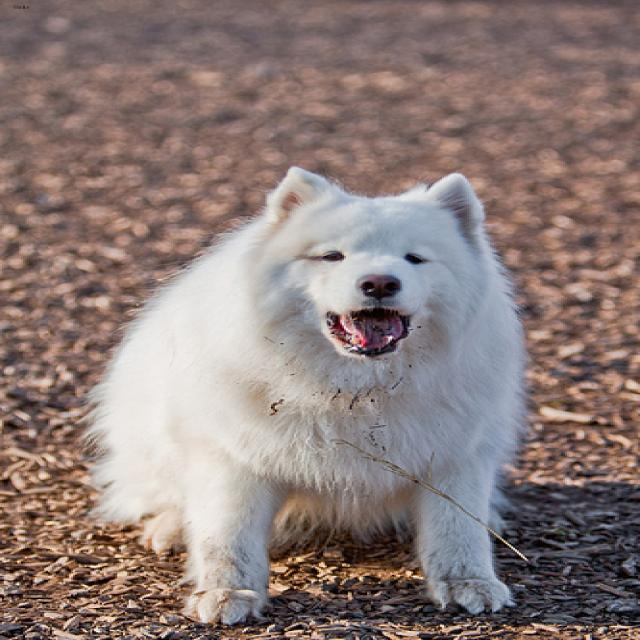dog-samoyed: (52, 156, 548, 634)
